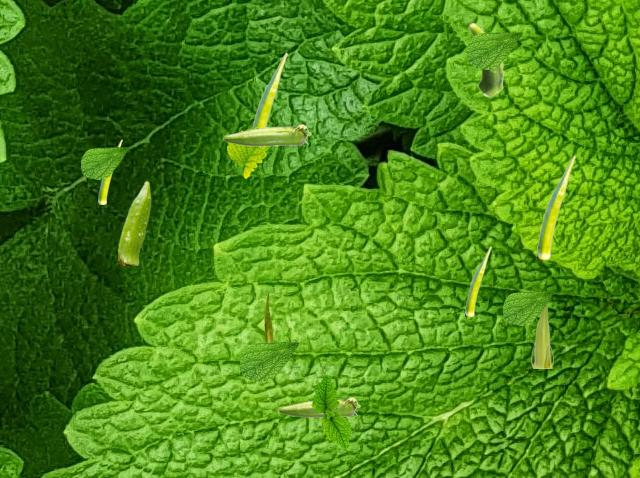okra: (537, 155, 574, 258), (118, 180, 150, 264), (468, 22, 503, 96), (252, 52, 286, 128), (223, 124, 310, 145), (465, 246, 490, 315), (278, 397, 359, 416), (98, 139, 121, 203), (530, 303, 552, 367), (264, 293, 272, 341)
